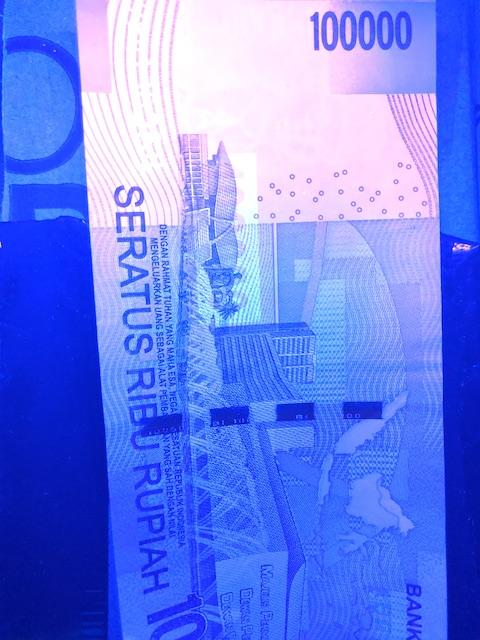100_RIBU_ASLI: (219, 150, 262, 328)
